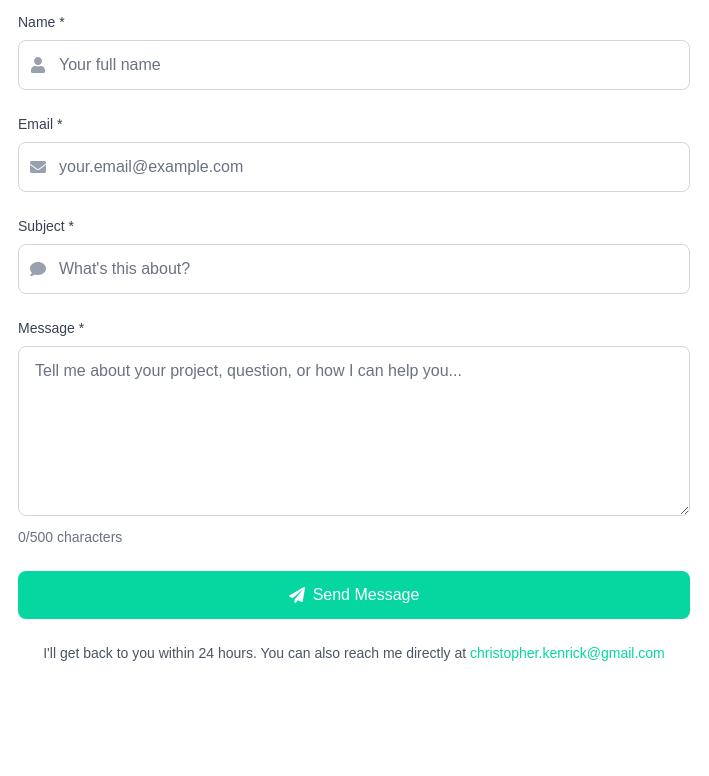
Scenario: ContactForm Component › shows error message on submission failure
Fill out and submit form
Type "John Doe" into the field labelled "Name *".
click(354, 65); type("John Doe")  # box [18,40,690,90]
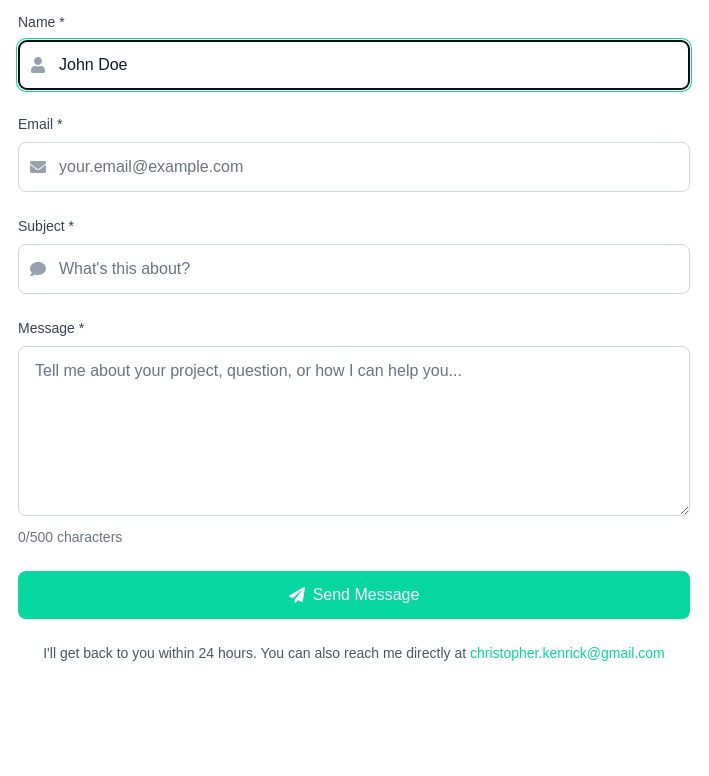
Type "john@example.com" into the field labelled "Email *".
click(354, 167); type("john@example.com")  # box [18,142,690,192]
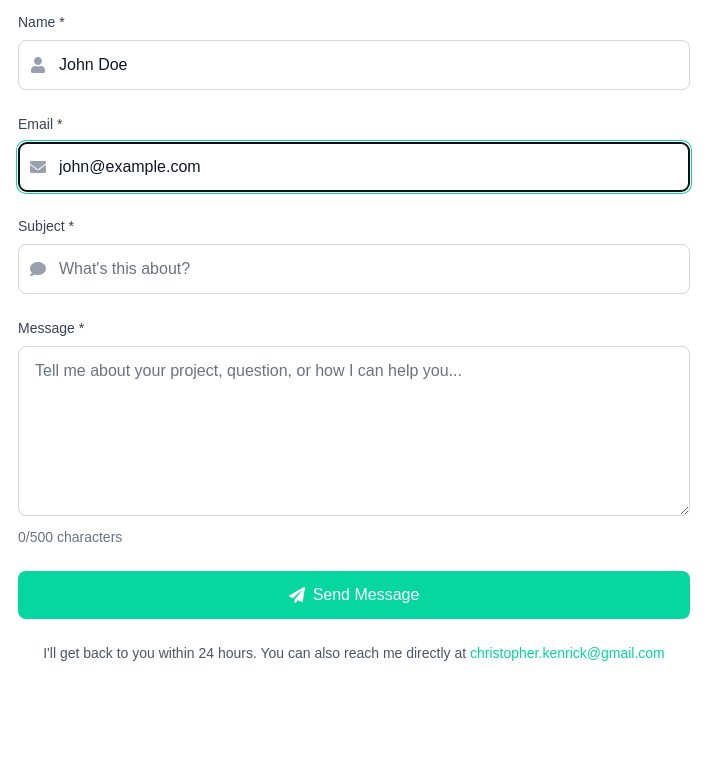
Type "Test Subject" into the field labelled "Subject *".
click(354, 269); type("Test Subject")  # box [18,244,690,294]
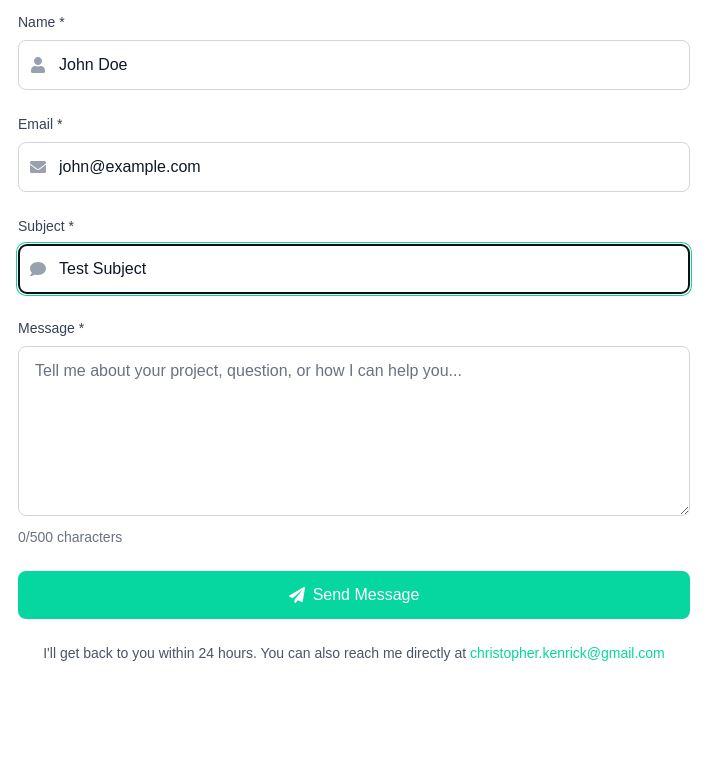
Type "This is a test message with sufficient length" into the text box labelled "Message *".
click(354, 431); type("This is a test message with sufficient length")  # box [18,346,690,516]
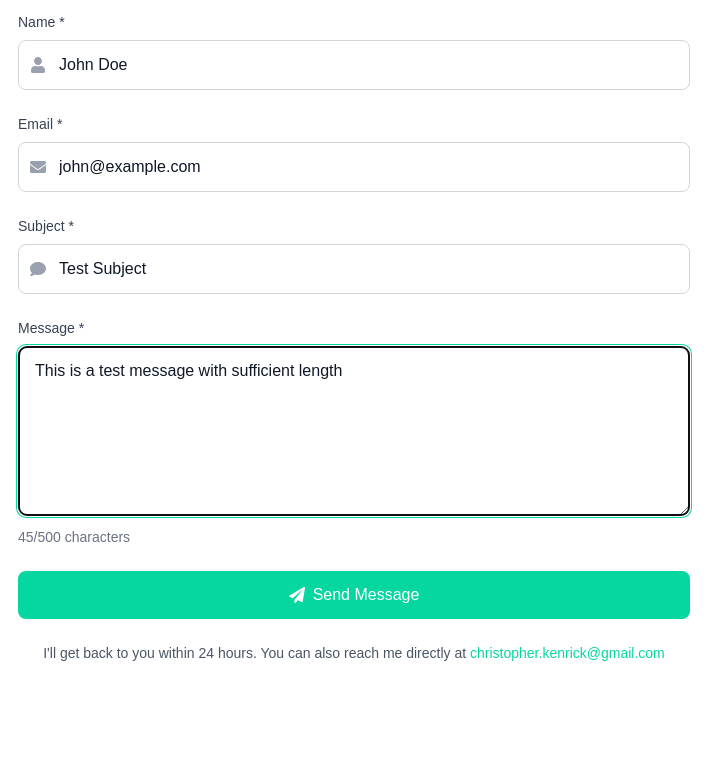
Click the button "Send Message".
click(354, 595)  # box [18,571,690,619]
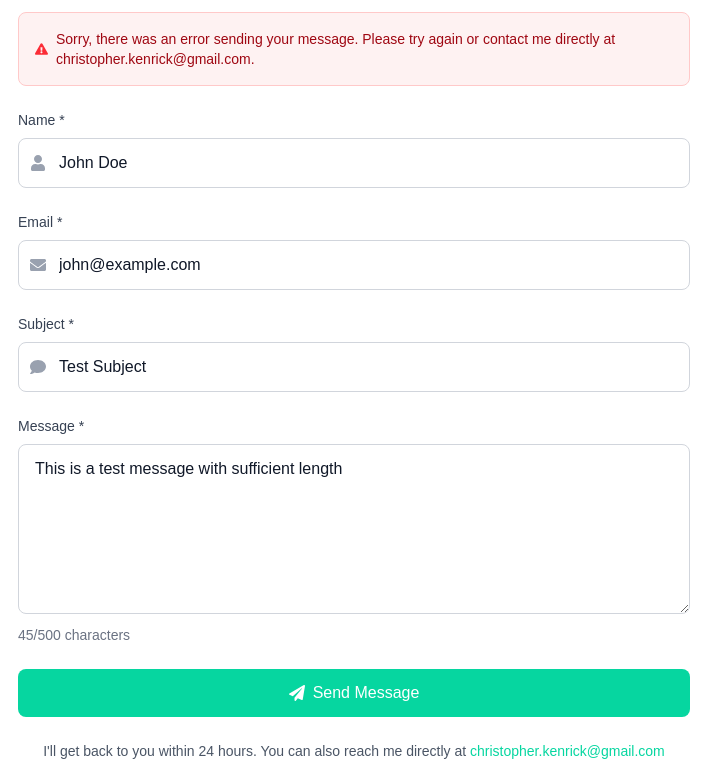
Expected: the text "Sorry, there was an error" is shown, [56,31,615,67]
